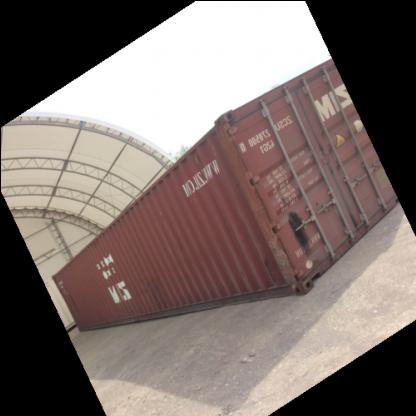Damage: (124, 277, 188, 309), (282, 205, 319, 252), (258, 236, 290, 282), (185, 151, 203, 169)
